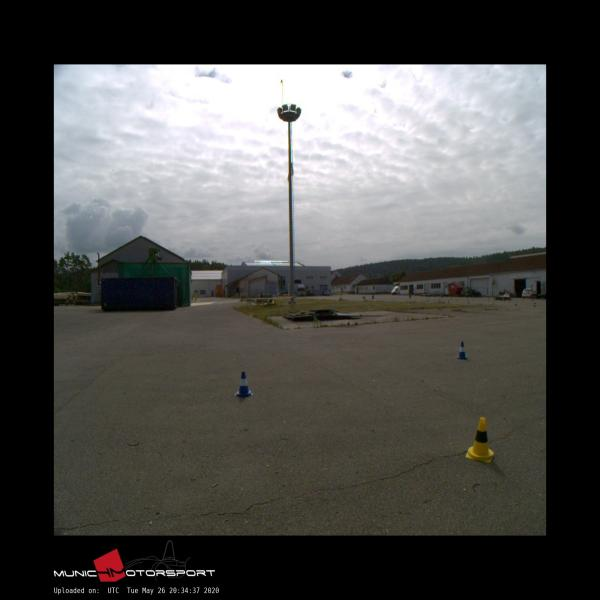blue_cone: (235, 370, 253, 397), (456, 341, 467, 358)
yellow_cone: (466, 417, 494, 462)
